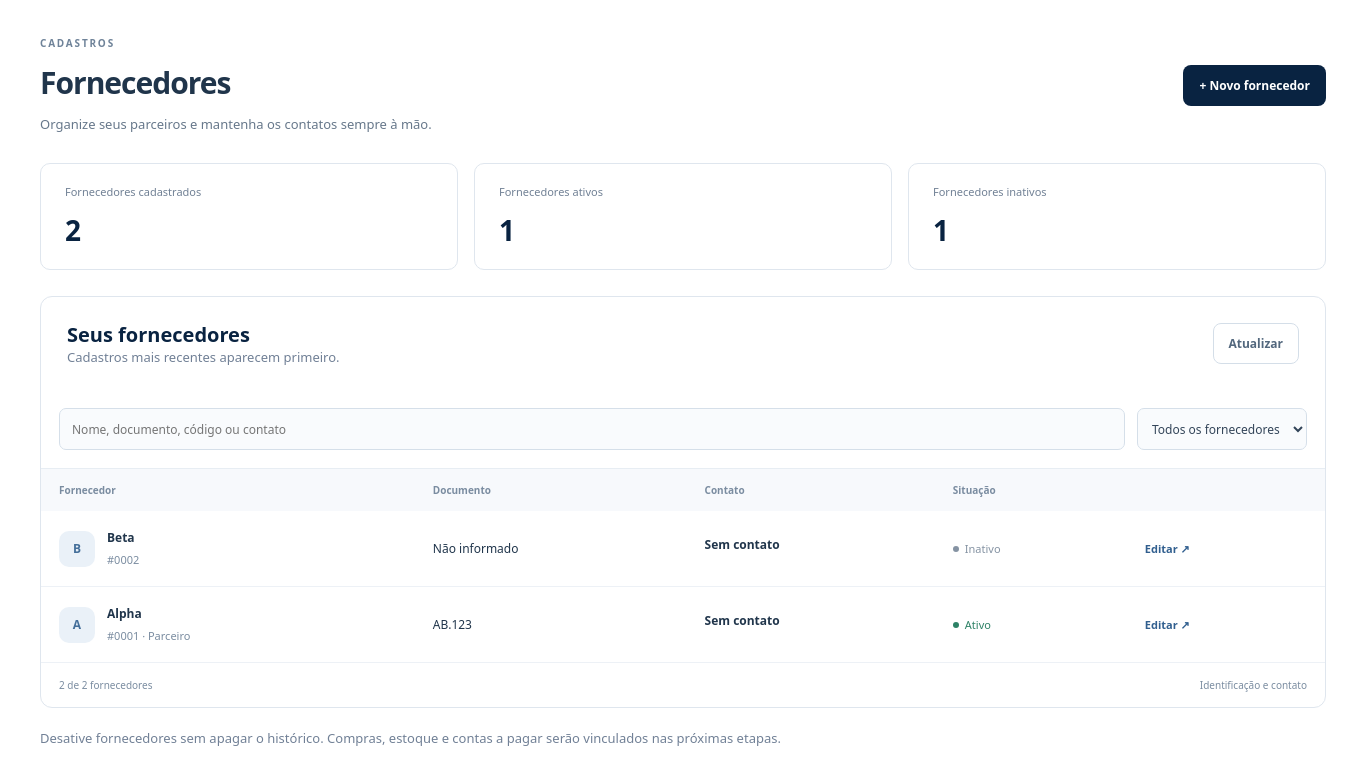
Test: preserva os dados quando o cadastro falha e permite tentar novamente
The image size is (1366, 768).
Expected: the text "Alpha" is shown, [107,605,142,622]
Click the button "+ Novo fornecedor" at (1255, 86), box [1184,65,1326,106]
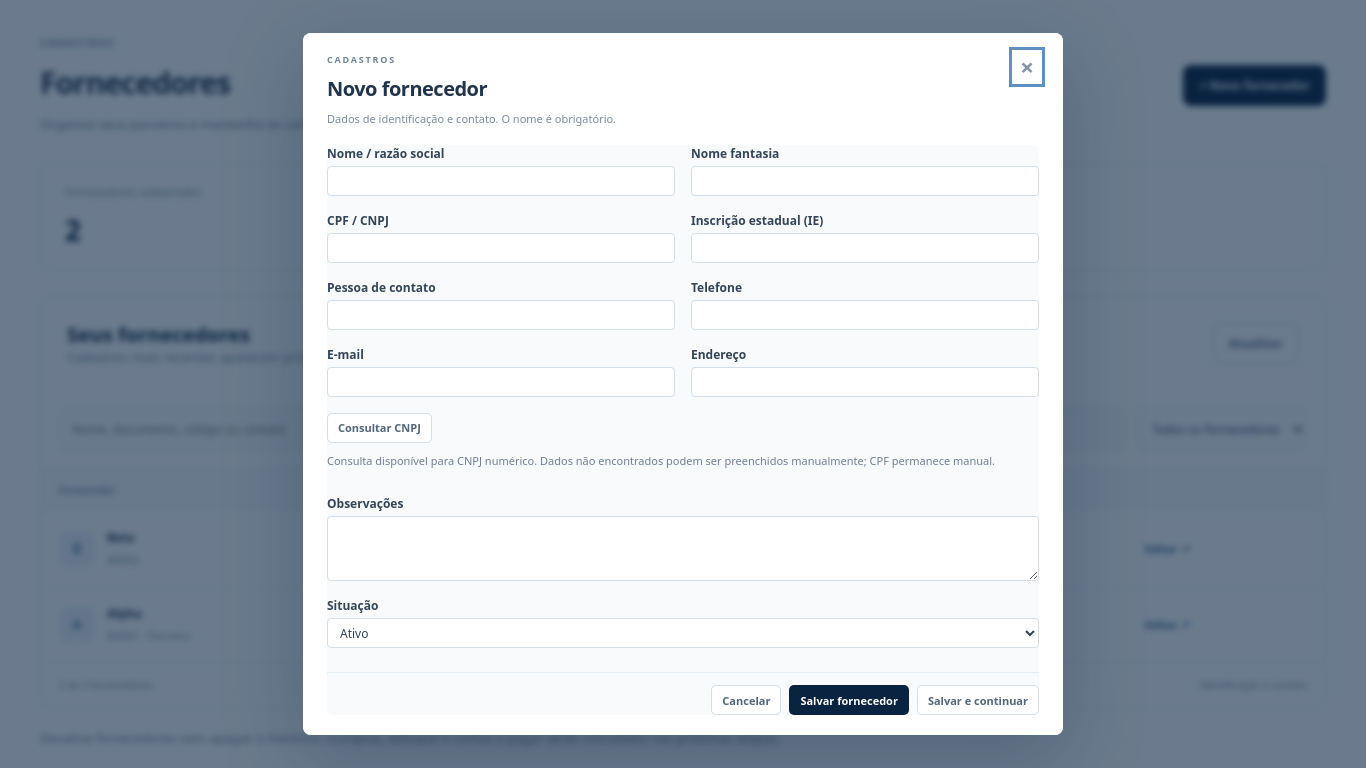
Type "Novo parceiro" into the field labelled "Nome / razão social" at (501, 181), box [327,166,675,196]
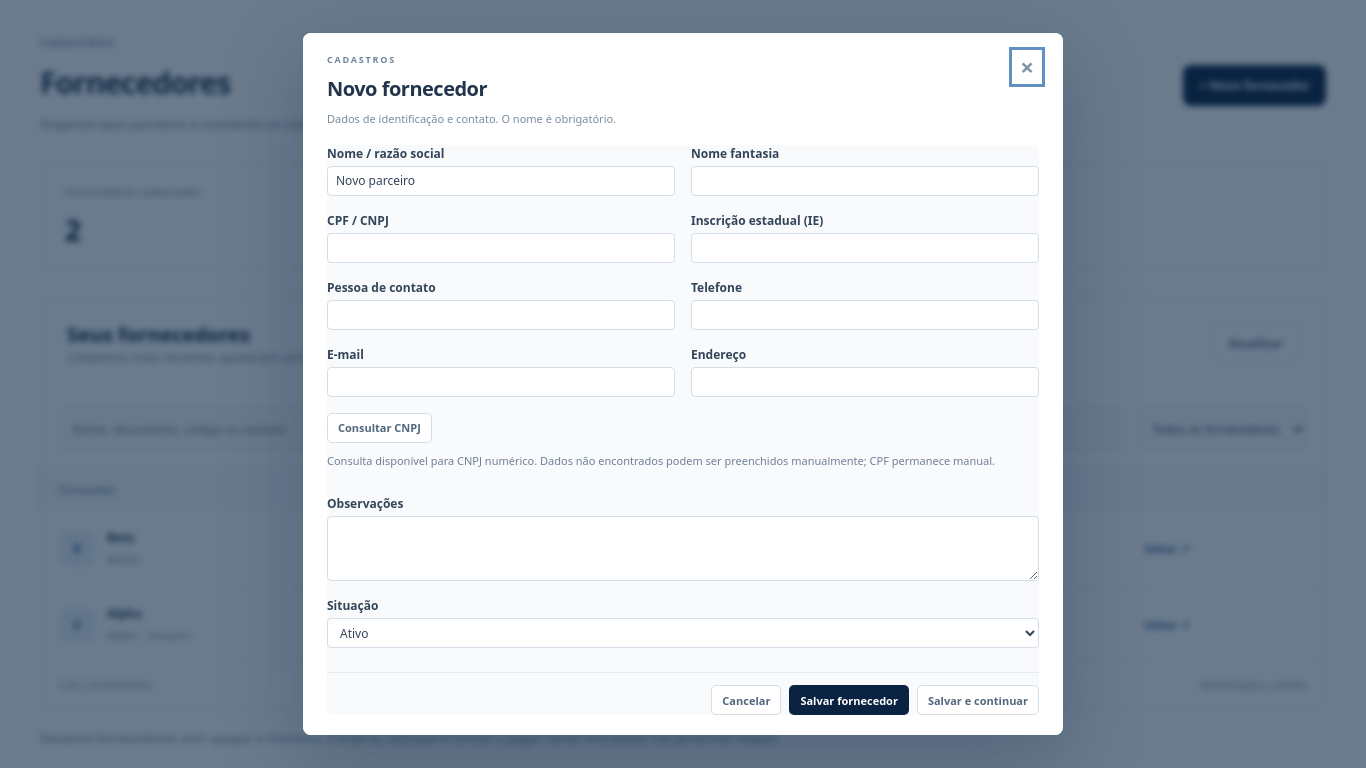
Click the button "Salvar fornecedor" at (849, 700), box [789,685,909,715]
(page scrolled)
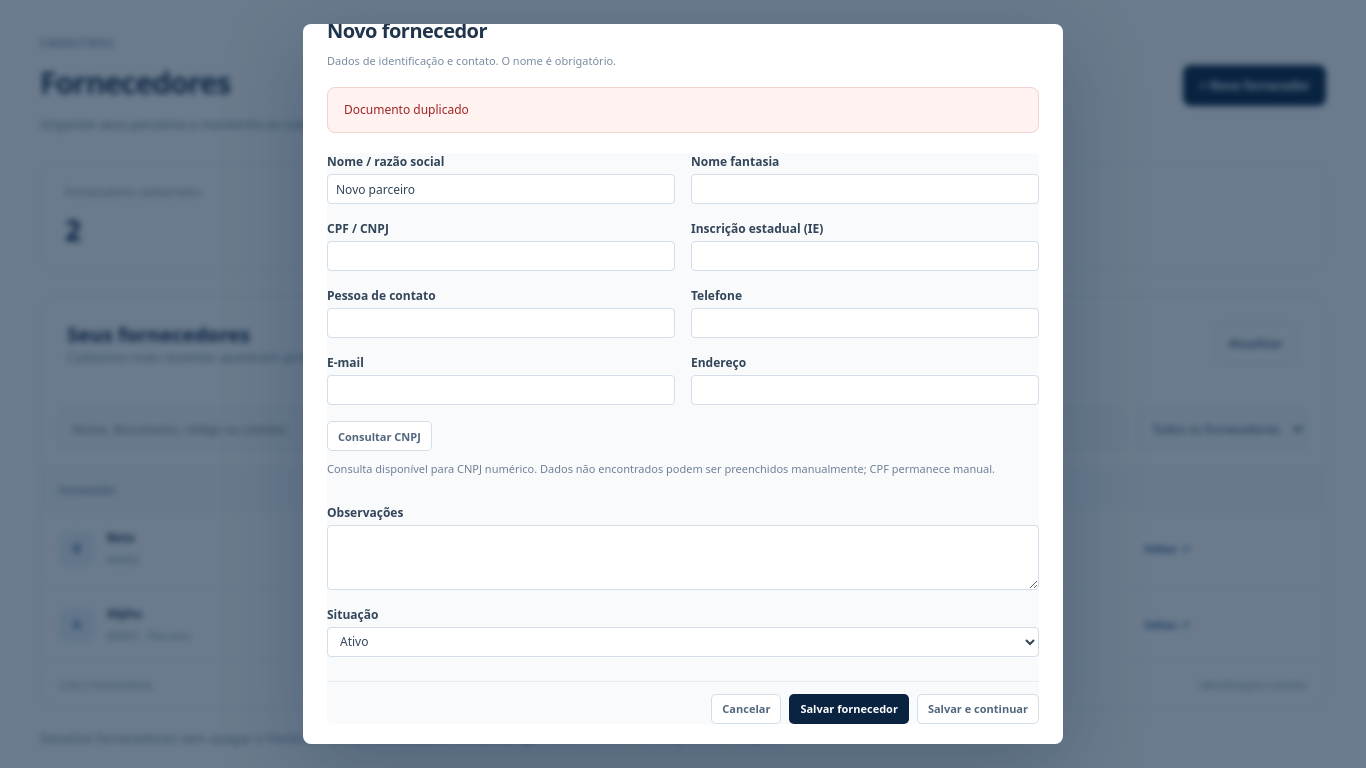
Now the message reads "Documento duplicado", box [344,101,469,118]
Click the button "Salvar fornecedor" at (849, 709), box [789,694,909,724]
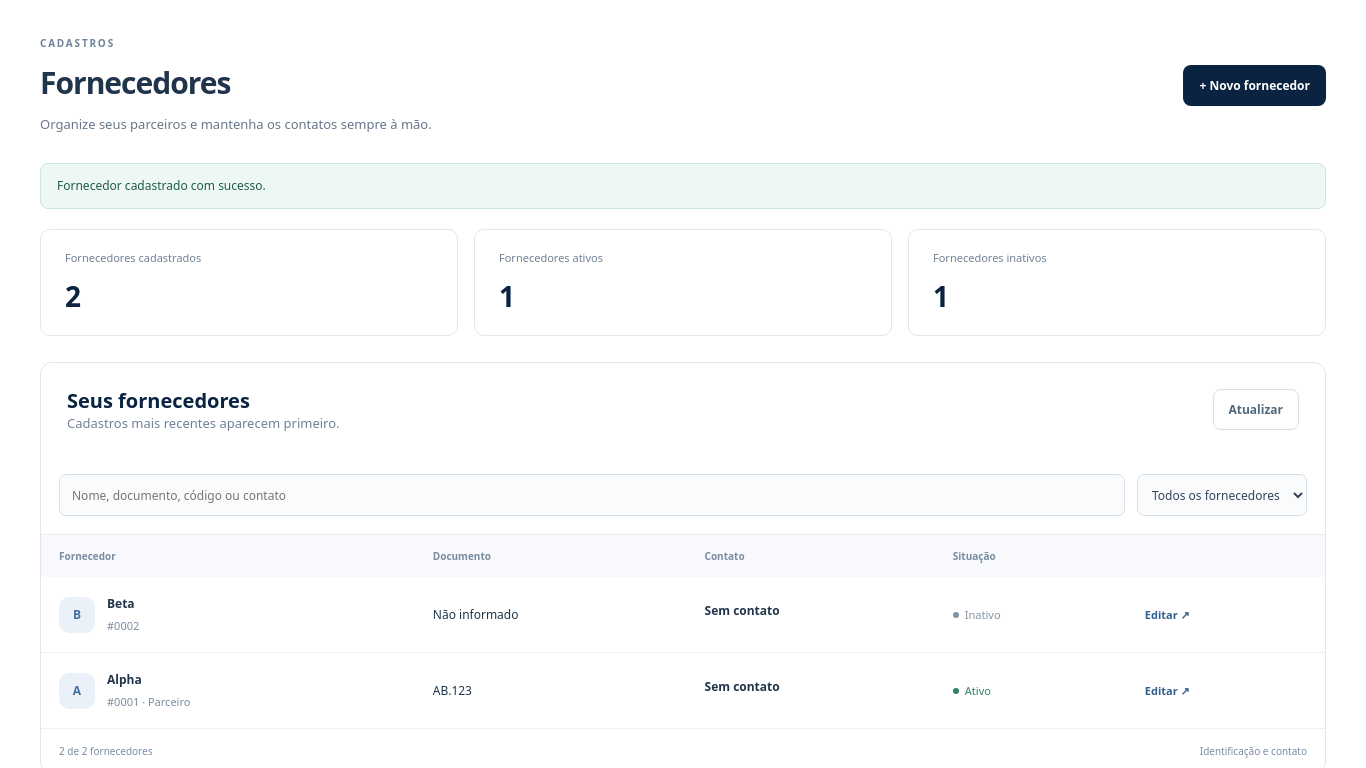
Now the dialog is gone
